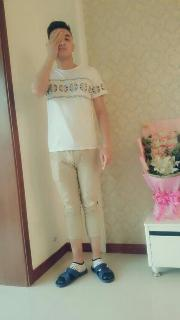short sleeve top: (32, 65, 108, 152)
trousers: (48, 136, 101, 239)
